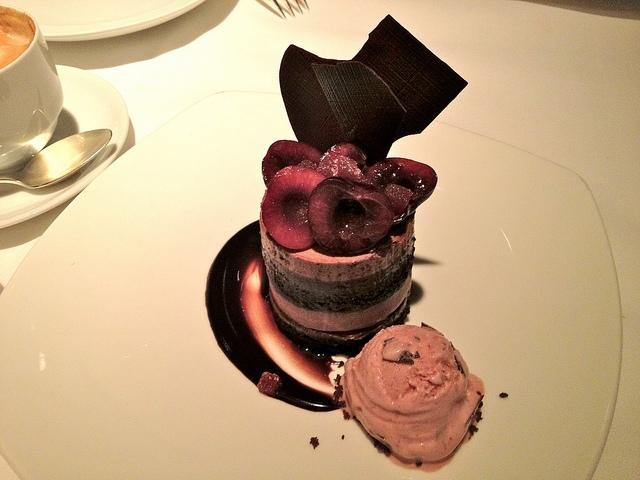cherry: (307, 176, 395, 254), (262, 165, 326, 249), (362, 158, 438, 224), (262, 140, 324, 188), (315, 154, 368, 184), (322, 142, 367, 168)
